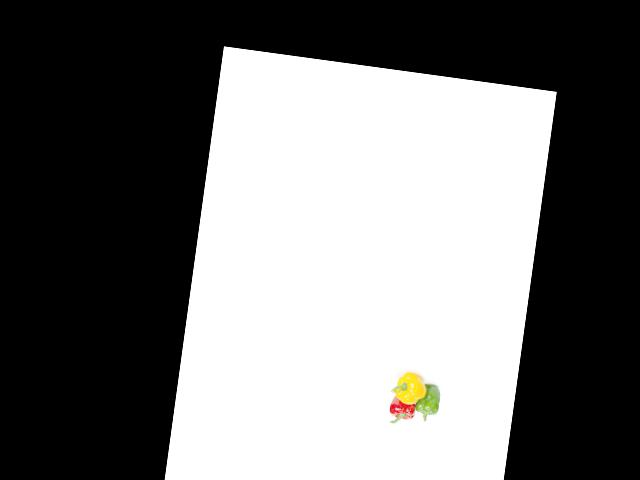bell_pepper: (382, 390, 421, 429)
